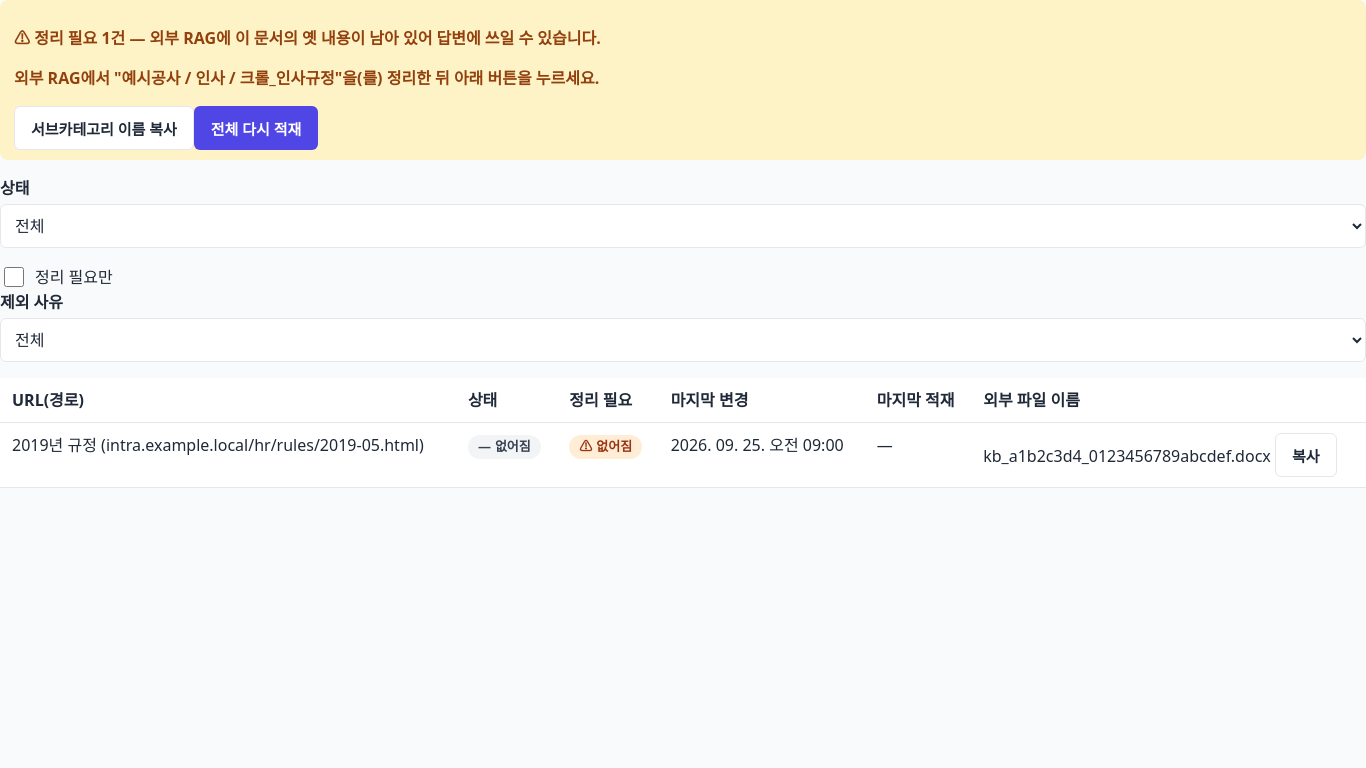
KbDocumentListPage › 전체 다시 적재 확인 문구는 activeDocumentCount를 쓴다(정리 필요 건수·목록 total과 다름)
The width and height of the screenshot is (1366, 768).
Click the button "전체 다시 적재" at (256, 128), box [194,106,318,150]
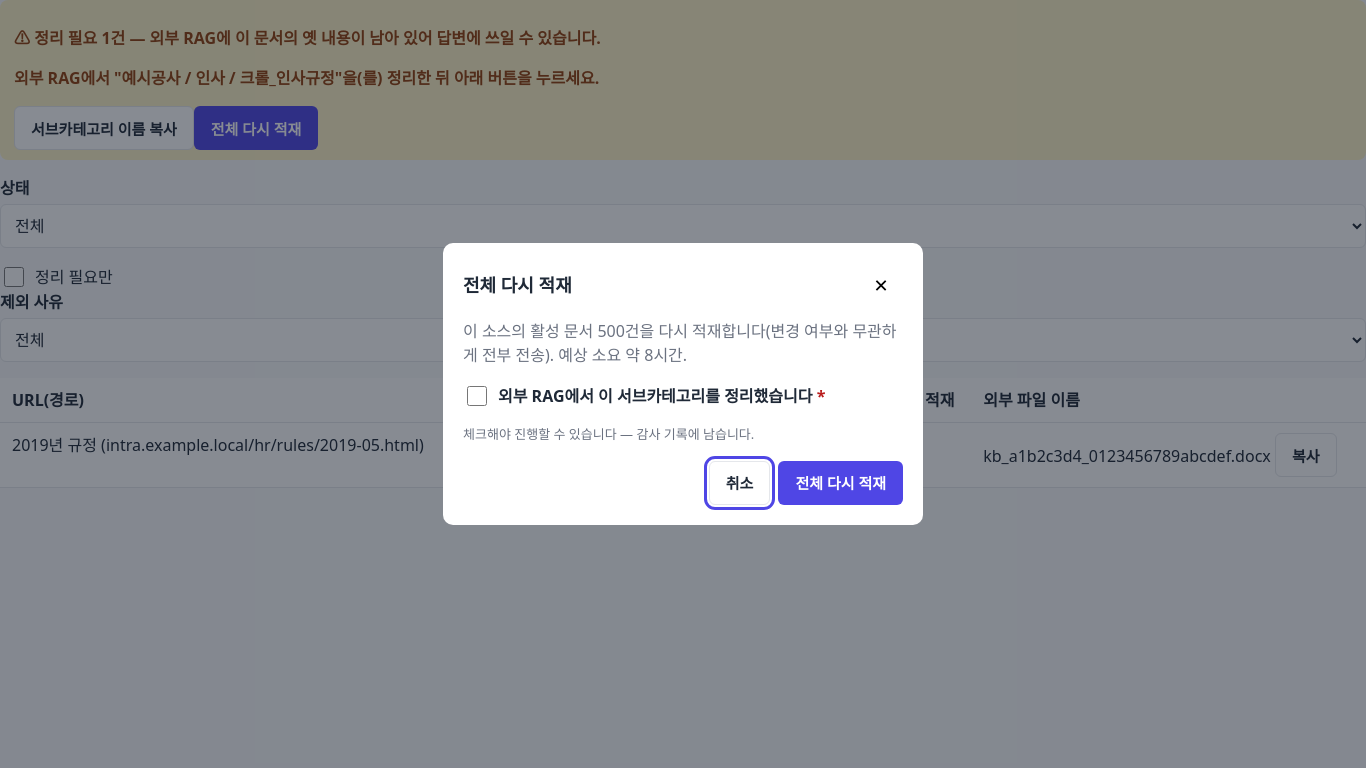
Expected: the text "이 소스의 활성 문서 500건을 다시 적재합니다(변경 여부와 무관하게 전부 전송). 예상 소요 약 8시간." is shown, [463,319,903,367]
